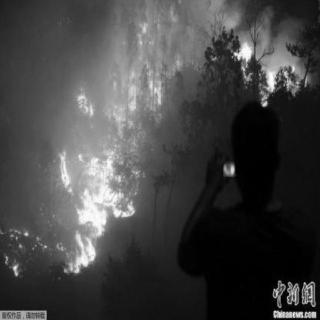Fire: (51, 15, 177, 282), (217, 40, 315, 99), (4, 210, 48, 281)
